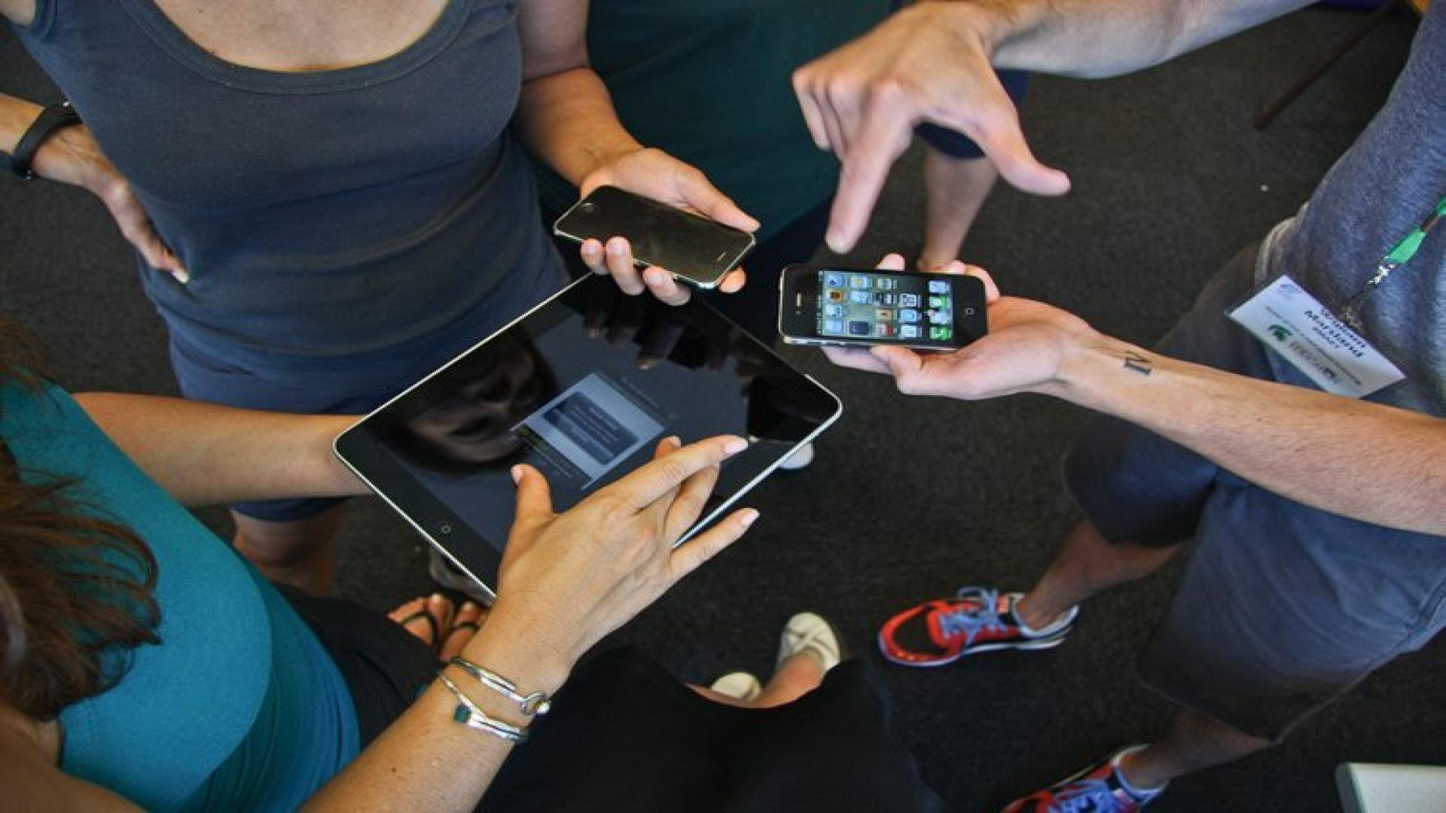phone: (330, 243, 845, 604), (553, 179, 761, 293), (781, 260, 991, 353)
